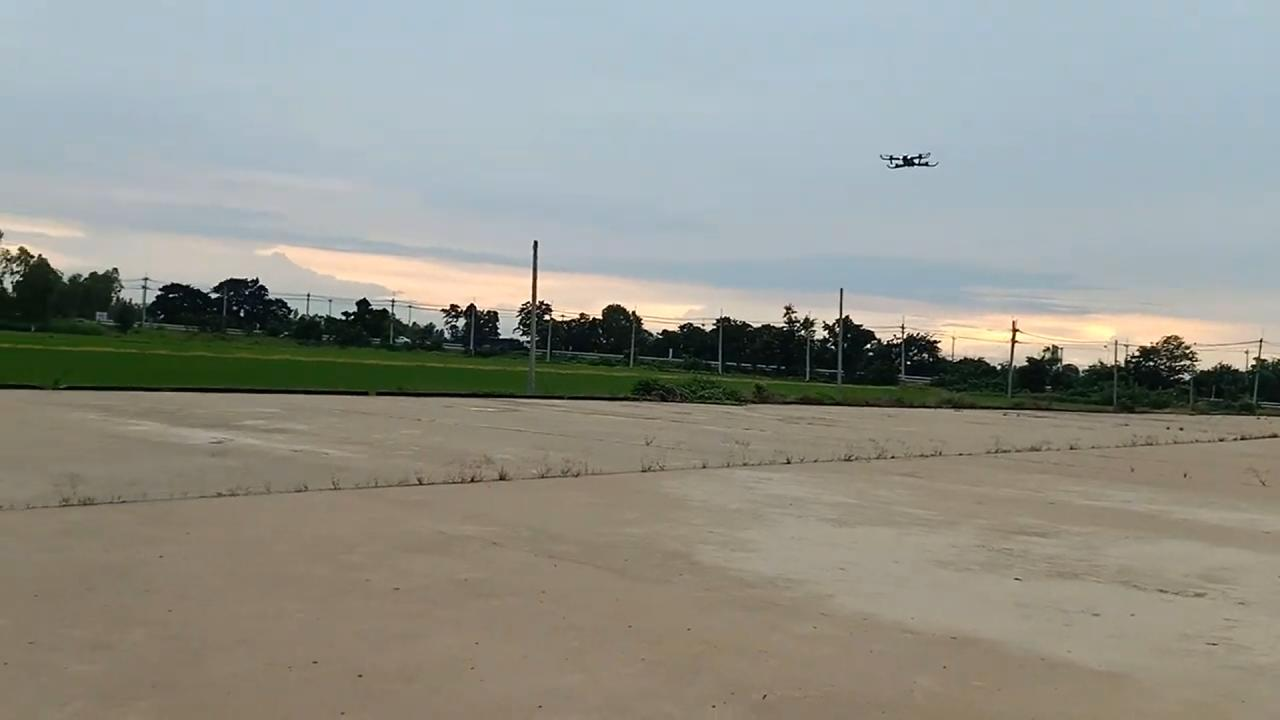Drone: (874, 141, 944, 180)
